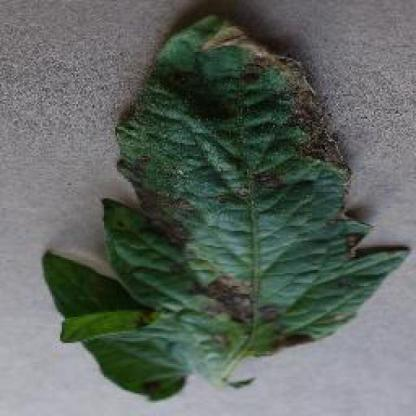Tomato_Blight: (42, 15, 409, 400)
